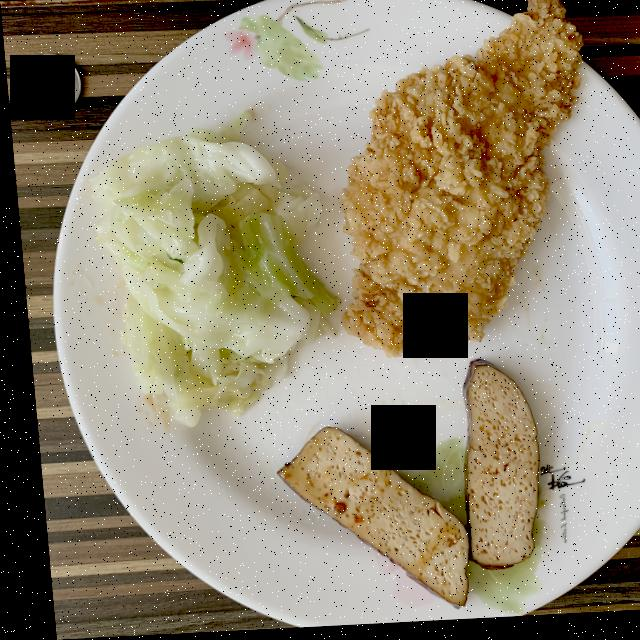cabbage: (87, 114, 334, 424)
coin: (16, 53, 79, 115)
firm tofu: (269, 363, 530, 612)
fried chicken cutlet: (336, 0, 581, 360)
